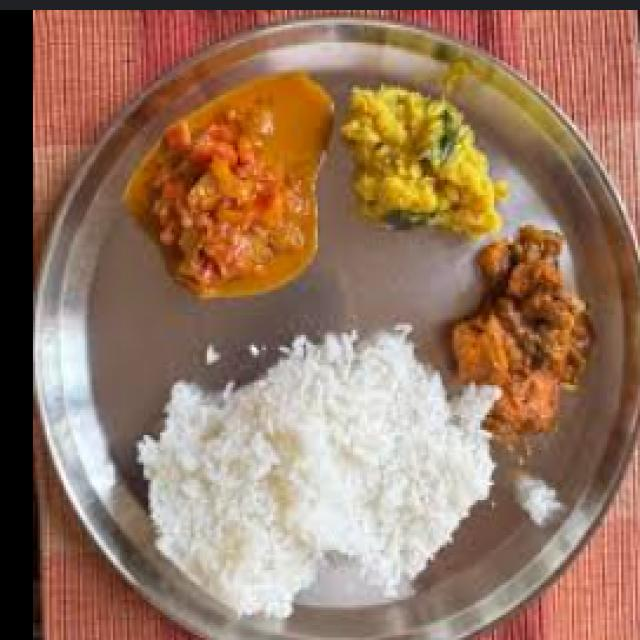rice: (146, 340, 488, 604)
